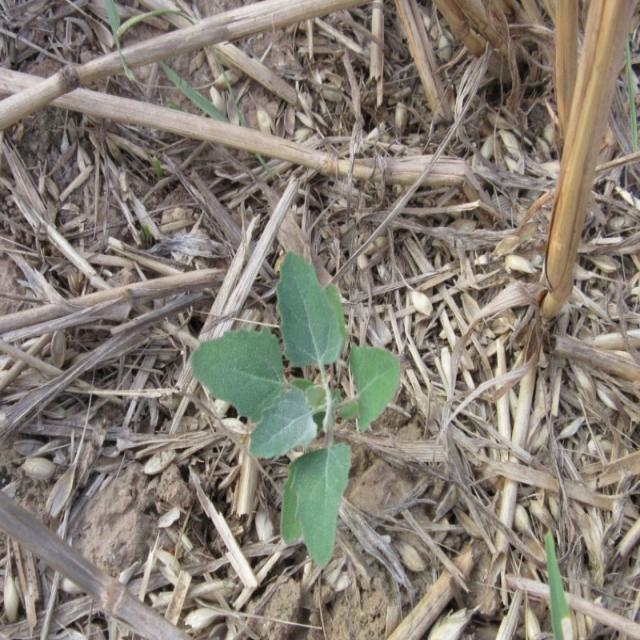ca: (192, 254, 400, 569)
